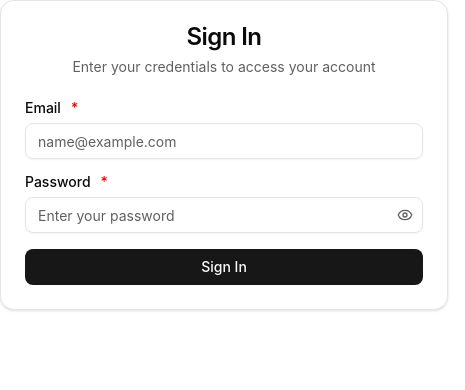
Login › shows error alert on failed form submission
The width and height of the screenshot is (465, 390).
Type "test@example.com" into the field labelled "Email *" at (224, 141), box [25,123,423,159]
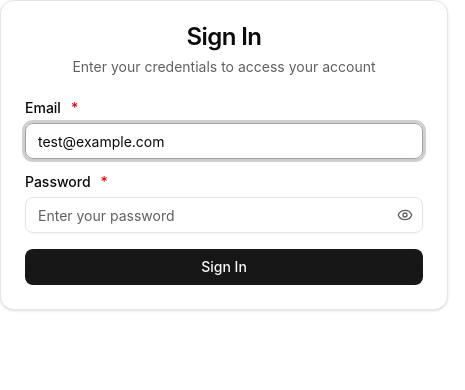
Type "Password123" into the password field labelled "Password *" at (224, 215), box [25,197,423,233]
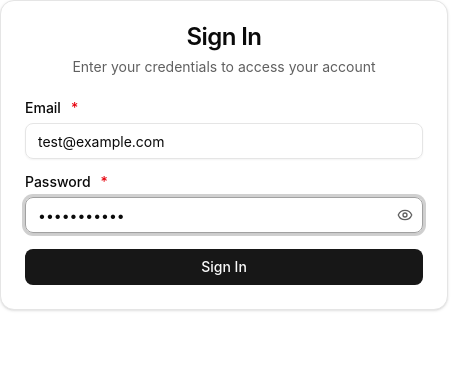
Click the button "Sign In" at (224, 267), box [25,249,423,285]
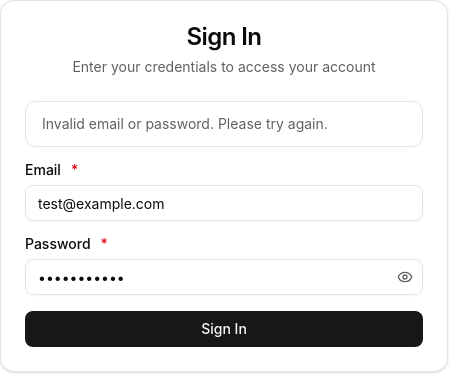
Expected: the text "Invalid email or password. Please try again." is shown, [42,115,328,132]
